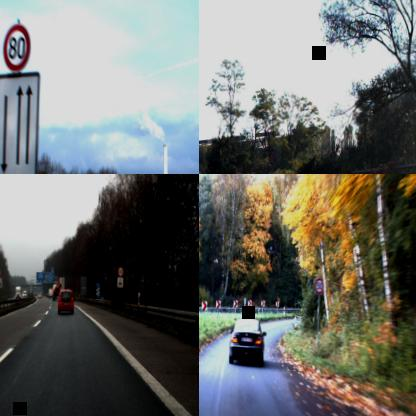speed limit 50: (314, 277, 323, 293), (268, 152, 275, 164)
speed limit 80: (2, 22, 31, 72), (116, 264, 124, 276)
